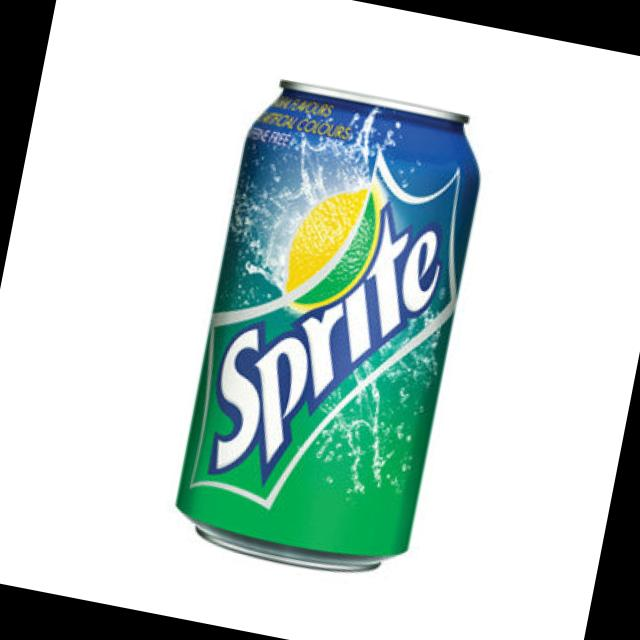sprite: (160, 68, 503, 600)
